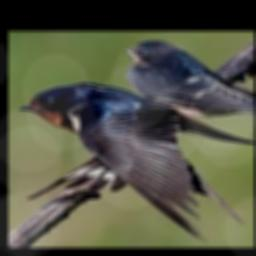Swallow: (17, 82, 254, 240), (126, 39, 254, 111)
